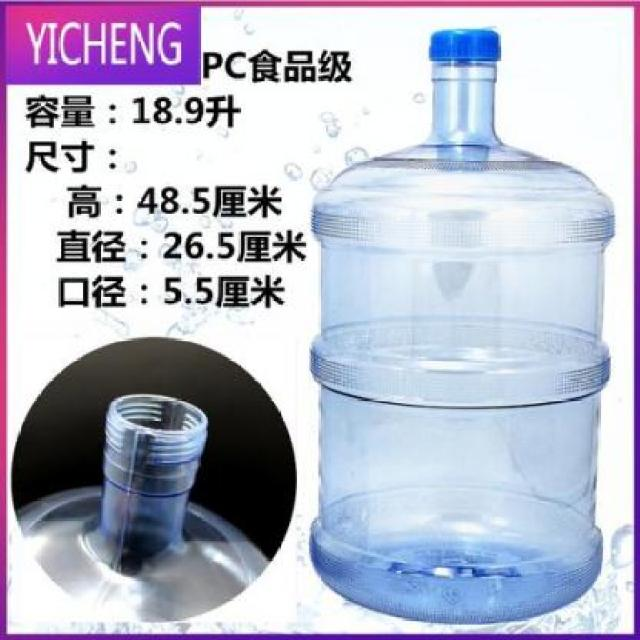coolerbottle: (308, 21, 619, 627)
